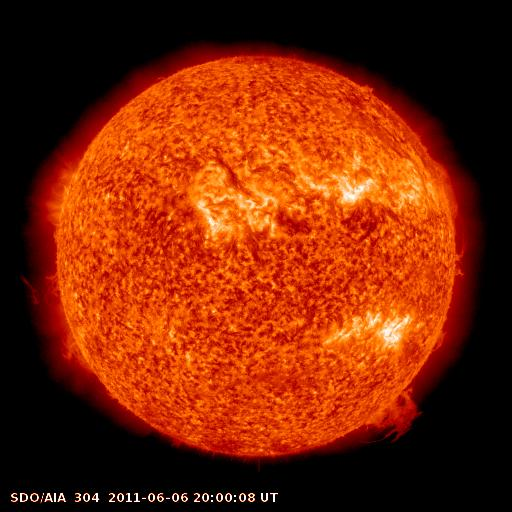prominence: (17, 266, 98, 383), (427, 150, 475, 283), (359, 382, 427, 447), (429, 325, 453, 359)
